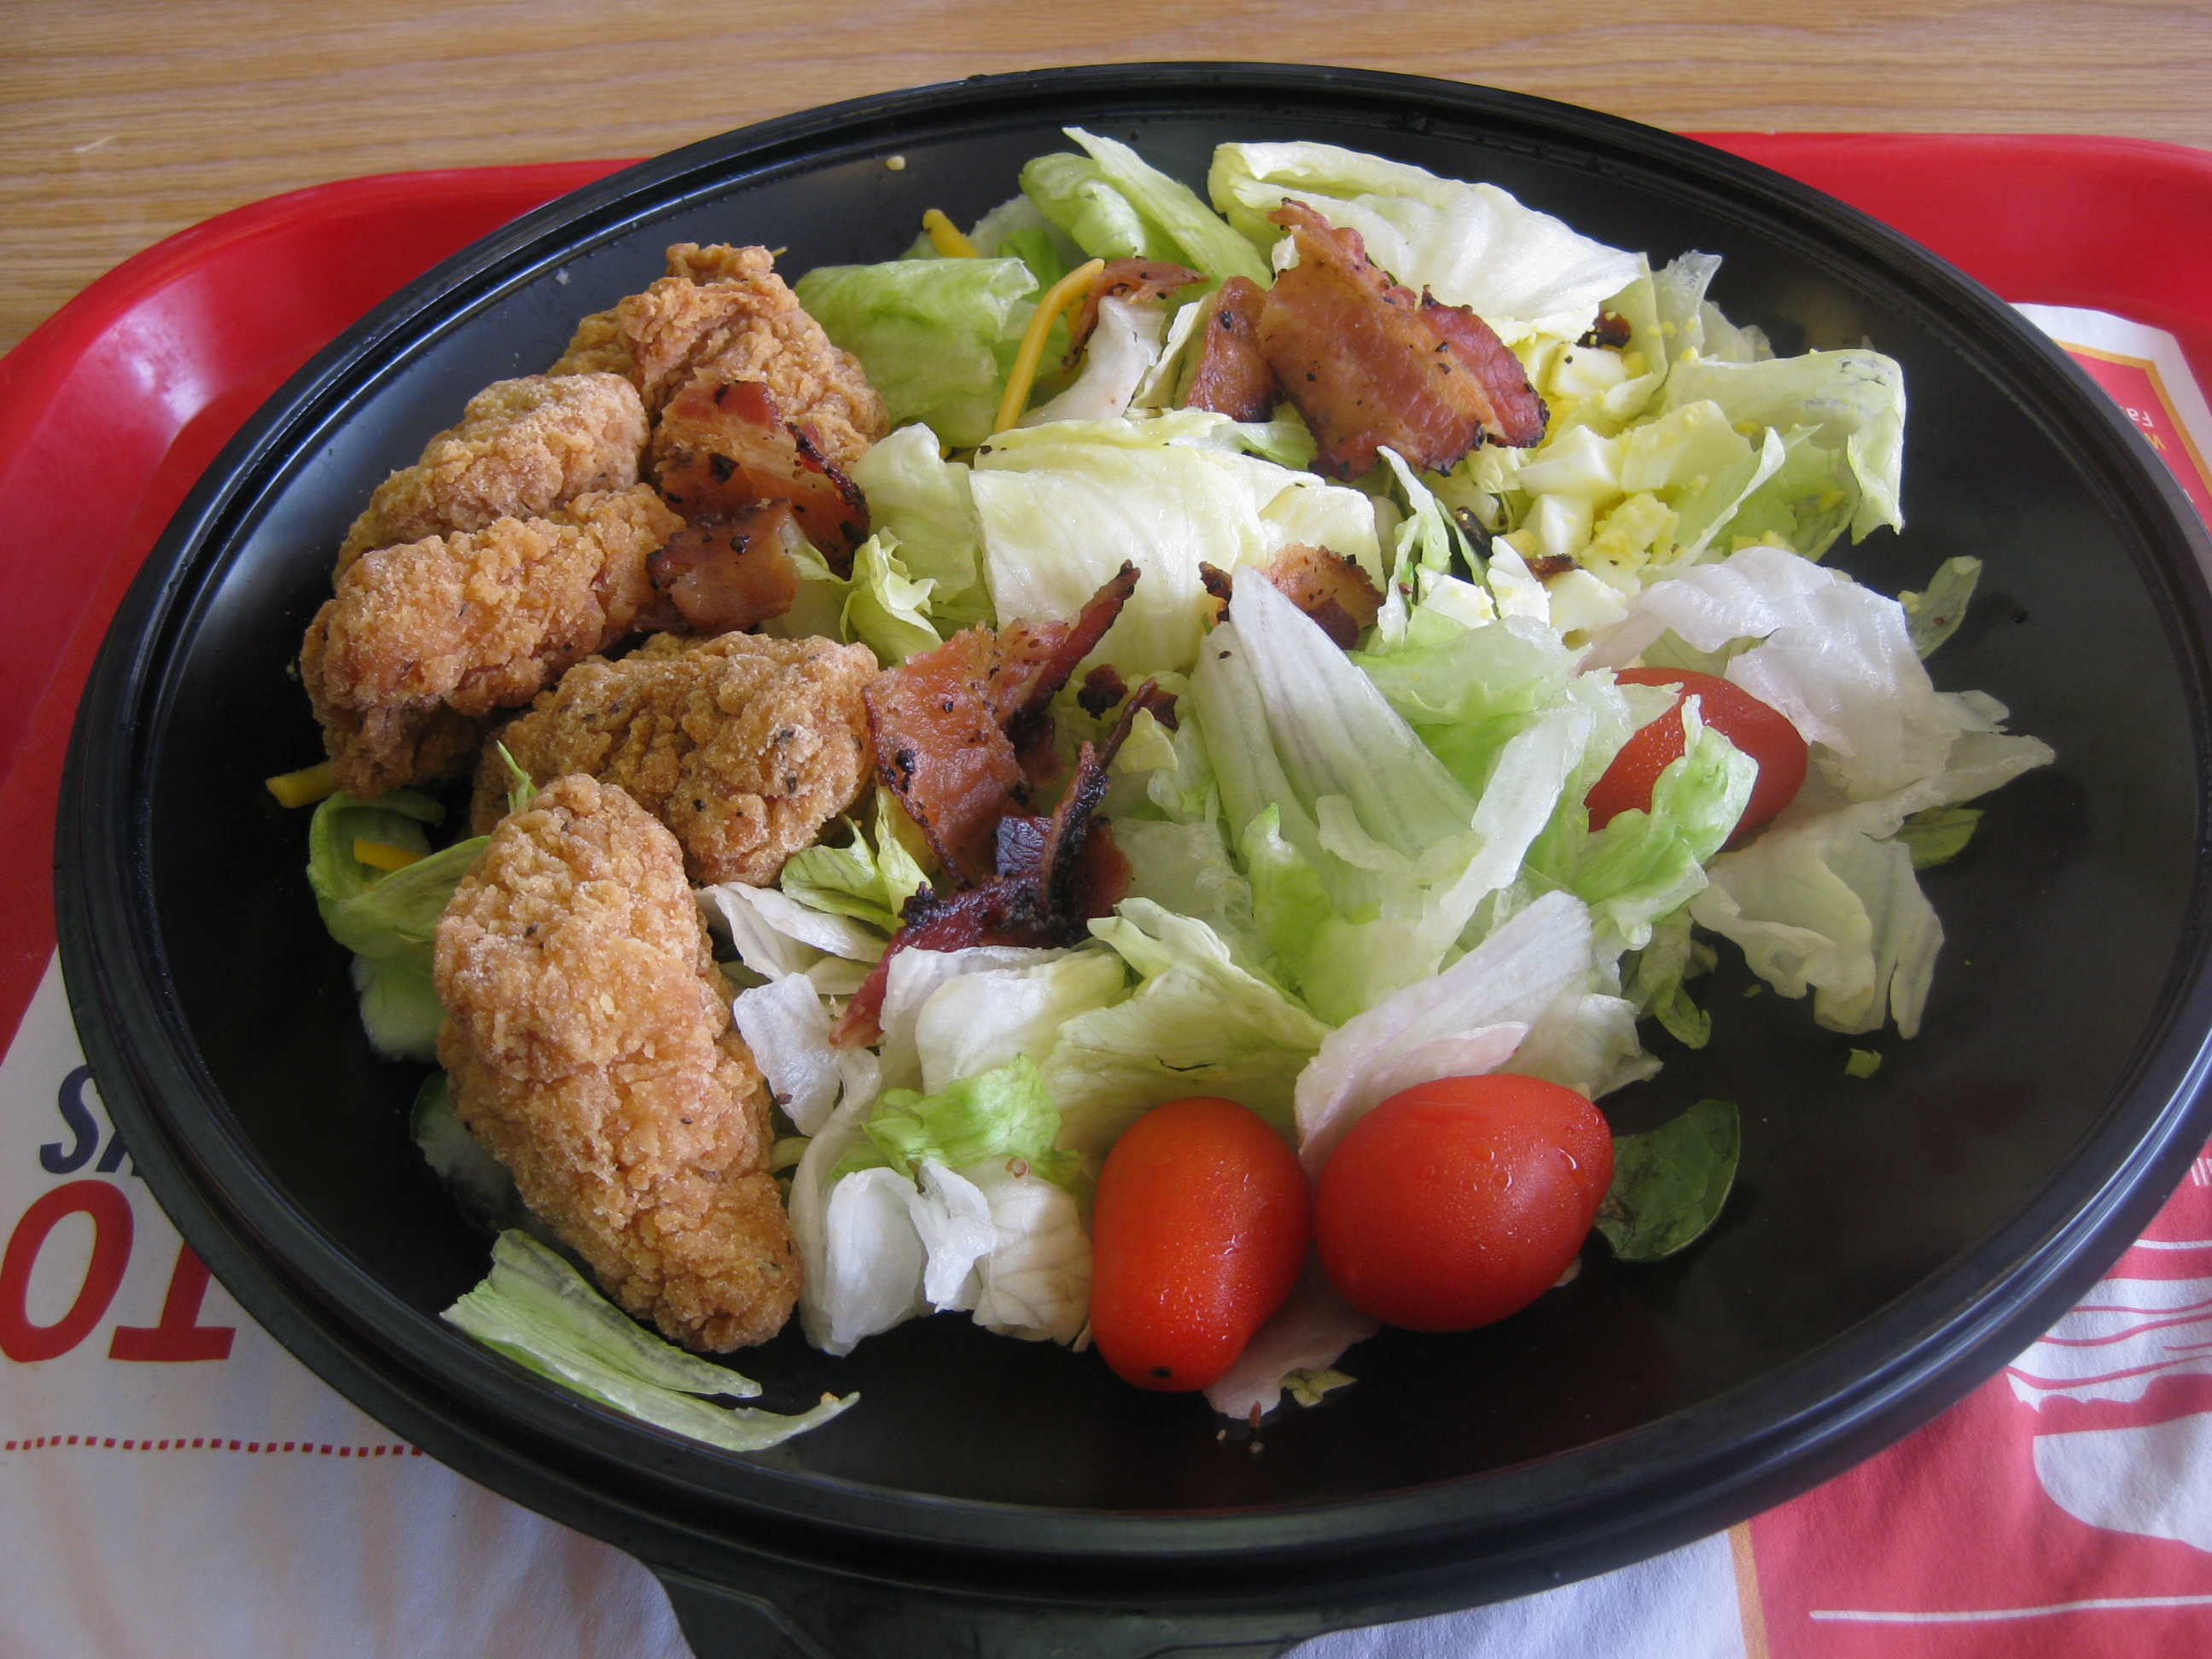salad: (249, 50, 2101, 1499)
